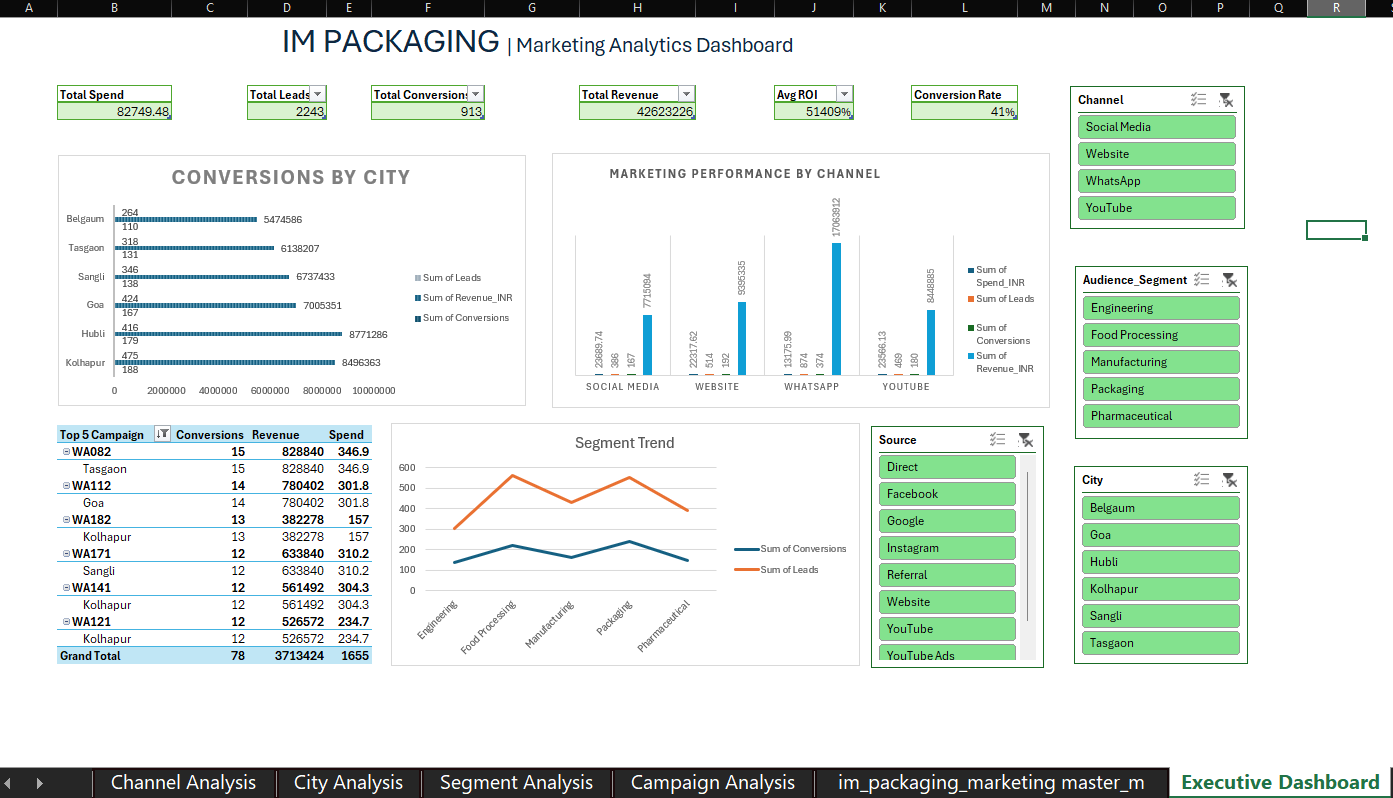

The dashboard page shown, as its layout file describes it:
{"tool":"powerbi","page":{"name":"Page 2","canvas":[2350,1600],"ordinal":1},"visuals":[{"type":"shape","box":[67.2,88.4,2216.3,127.2],"z":0},{"type":"shape","box":[60.1,257.4,385.3,289.8],"z":1000},{"type":"shape","box":[1056.9,618.6,1237.1,456],"z":2000},{"type":"shape","box":[1056.9,1106.4,1208.9,459.5],"z":3000},{"type":"shape","box":[10.6,618.6,487.8,982.6],"z":4000},{"type":"shape","box":[544.3,1134.6,456,431.2],"z":5000},{"type":"shape","box":[544.3,618.6,456,456],"z":6000},{"type":"shape","box":[517.8,264.4,385.3,289.8],"z":7000},{"type":"shape","box":[975.6,264.4,385.3,289.8],"z":8000},{"type":"shape","box":[1433.3,264.4,385.3,289.8],"z":9000},{"type":"shape","box":[1891.1,264.4,385.3,289.8],"z":10000},{"type":"shape","box":[67.2,215.6,2216.3,63.6],"z":11000},{"type":"shape","box":[300.4,275,367.6,268.6],"z":12000},{"type":"shape","box":[758.8,275,367.6,268.6],"z":13000},{"type":"shape","box":[1217.1,275,367.6,268.6],"z":14000},{"type":"shape","box":[1675.4,275,367.6,268.6],"z":15000},{"type":"shape","box":[335.8,714,367.6,802.4],"z":16000},{"type":"shape","box":[837.7,703.4,367.6,802.4],"z":17000},{"type":"shape","box":[63.6,547.9,2216.3,63.6],"z":18000},{"type":"cardVisual","title":"ROI","fields":{"Data":["im_packaging_marketing master_marketing.ROI"]},"box":[1929.9,314.6,300.4,187.3],"z":19000},{"type":"cardVisual","title":"Revenue","fields":{"Data":["im_packaging_marketing master_marketing.Total Revenue"]},"box":[1477.5,314.6,300.4,187.3],"z":20000},{"type":"cardVisual","title":"Leads","fields":{"Data":["im_packaging_marketing master_marketing.Total Leads"]},"box":[1014.5,314.6,300.4,187.3],"z":21000},{"type":"cardVisual","title":"Spend","fields":{"Data":["im_packaging_marketing master_marketing.Total Spend"]},"box":[544.3,314.6,300.4,187.3],"z":22000},{"type":"cardVisual","title":"CPL","fields":{"Data":["im_packaging_marketing master_marketing.Cost Per Lead"]},"box":[99,314.6,300.4,187.3],"z":23000},{"type":"columnChart","fields":{"Y":["im_packaging_marketing master_marketing.Total Conversions"],"Category":["im_packaging_marketing master_marketing.Channel"]},"box":[544.3,1166.4,456,374.7],"z":24000},{"type":"ribbonChart","fields":{"Y":["im_packaging_marketing master_marketing.Total Revenue"],"Series":["im_packaging_marketing master_marketing.Channel"],"Category":["im_packaging_marketing master_marketing.week"]},"box":[1088.7,650.4,1159.4,406.5],"z":25000},{"type":"clusteredBarChart","title":"Total Conversions by City","fields":{"Category":["im_packaging_marketing master_marketing.City"],"Y":["Sum(im_packaging_marketing master_marketing.Conversions)"]},"box":[544.3,650.4,456,424.2],"z":26000},{"type":"pivotTable","fields":{"Rows":["im_packaging_marketing master_marketing.Audience_Segment"],"Columns":["im_packaging_marketing master_marketing.Channel"],"Values":["im_packaging_marketing master_marketing.Total Leads","im_packaging_marketing master_marketing.Total Revenue","Sum(im_packaging_marketing master_marketing.Conversions)"]},"box":[1088.7,1134.6,1173.5,406.5],"z":27000},{"type":"slicer","fields":{"Values":["im_packaging_marketing master_marketing.Channel"]},"box":[99,106,480.7,106],"z":27001},{"type":"slicer","fields":{"Values":["im_packaging_marketing master_marketing.Source"]},"box":[1767.3,106,480.7,106],"z":27002},{"type":"slicer","fields":{"Values":["im_packaging_marketing master_marketing.Audience_Segment"]},"box":[1211.2,106,480.7,106],"z":27003},{"type":"slicer","fields":{"Values":["im_packaging_marketing master_marketing.week"]},"box":[655.1,106,480.7,106],"z":27004},{"type":"textbox","box":[35.3,1056.9,448.9,509],"z":27005},{"type":"image","box":[10.6,650.4,505.5,406.5],"z":27006}]}

Visuals, with their boxes on the page's 2350x1600 design canvas (x1, y1, x2, y2). These are canvas units, not pixel positions in the 1393x798 screenshot, which may show the page scaled, cropped or inside an application window:
shape: pyautogui.locateOnScreen(67, 88, 2284, 216)
shape: pyautogui.locateOnScreen(60, 257, 445, 547)
shape: pyautogui.locateOnScreen(1057, 619, 2294, 1075)
shape: pyautogui.locateOnScreen(1057, 1106, 2266, 1566)
shape: pyautogui.locateOnScreen(11, 619, 498, 1601)
shape: pyautogui.locateOnScreen(544, 1135, 1000, 1566)
shape: pyautogui.locateOnScreen(544, 619, 1000, 1075)
shape: pyautogui.locateOnScreen(518, 264, 903, 554)
shape: pyautogui.locateOnScreen(976, 264, 1361, 554)
shape: pyautogui.locateOnScreen(1433, 264, 1819, 554)
shape: pyautogui.locateOnScreen(1891, 264, 2276, 554)
shape: pyautogui.locateOnScreen(67, 216, 2284, 279)
shape: pyautogui.locateOnScreen(300, 275, 668, 544)
shape: pyautogui.locateOnScreen(759, 275, 1126, 544)
shape: pyautogui.locateOnScreen(1217, 275, 1585, 544)
shape: pyautogui.locateOnScreen(1675, 275, 2043, 544)
shape: pyautogui.locateOnScreen(336, 714, 703, 1516)
shape: pyautogui.locateOnScreen(838, 703, 1205, 1506)
shape: pyautogui.locateOnScreen(64, 548, 2280, 612)
"ROI" cardVisual: pyautogui.locateOnScreen(1930, 315, 2230, 502)
"Revenue" cardVisual: pyautogui.locateOnScreen(1478, 315, 1778, 502)
"Leads" cardVisual: pyautogui.locateOnScreen(1014, 315, 1315, 502)
"Spend" cardVisual: pyautogui.locateOnScreen(544, 315, 845, 502)
"CPL" cardVisual: pyautogui.locateOnScreen(99, 315, 399, 502)
columnChart - im_packaging_marketing master_marketing.Total Conversions x im_packaging_marketing master_marketing.Channel: pyautogui.locateOnScreen(544, 1166, 1000, 1541)
ribbonChart - im_packaging_marketing master_marketing.Total Revenue x im_packaging_marketing master_marketing.Channel: pyautogui.locateOnScreen(1089, 650, 2248, 1057)
"Total Conversions by City" clusteredBarChart: pyautogui.locateOnScreen(544, 650, 1000, 1075)
pivotTable - im_packaging_marketing master_marketing.Audience_Segment x im_packaging_marketing master_marketing.Channel: pyautogui.locateOnScreen(1089, 1135, 2262, 1541)
slicer - im_packaging_marketing master_marketing.Channel: pyautogui.locateOnScreen(99, 106, 580, 212)
slicer - im_packaging_marketing master_marketing.Source: pyautogui.locateOnScreen(1767, 106, 2248, 212)
slicer - im_packaging_marketing master_marketing.Audience_Segment: pyautogui.locateOnScreen(1211, 106, 1692, 212)
slicer - im_packaging_marketing master_marketing.week: pyautogui.locateOnScreen(655, 106, 1136, 212)
textbox: pyautogui.locateOnScreen(35, 1057, 484, 1566)
image: pyautogui.locateOnScreen(11, 650, 516, 1057)
